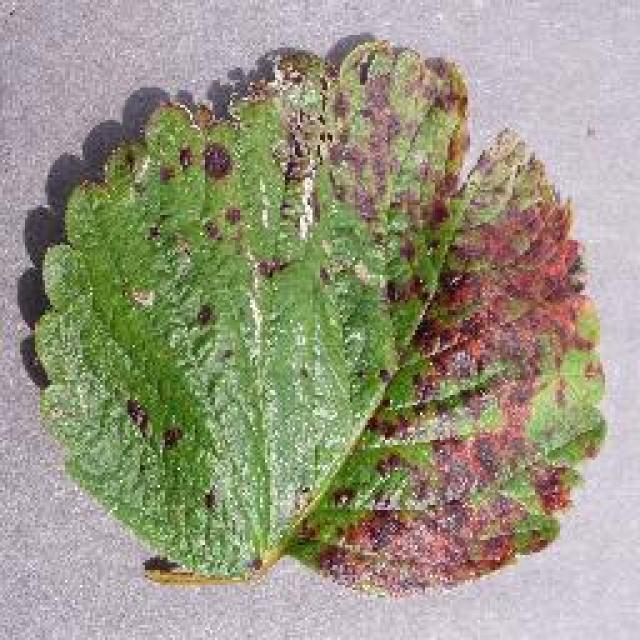Strawberry leaf scorch: (194, 145, 524, 528)
